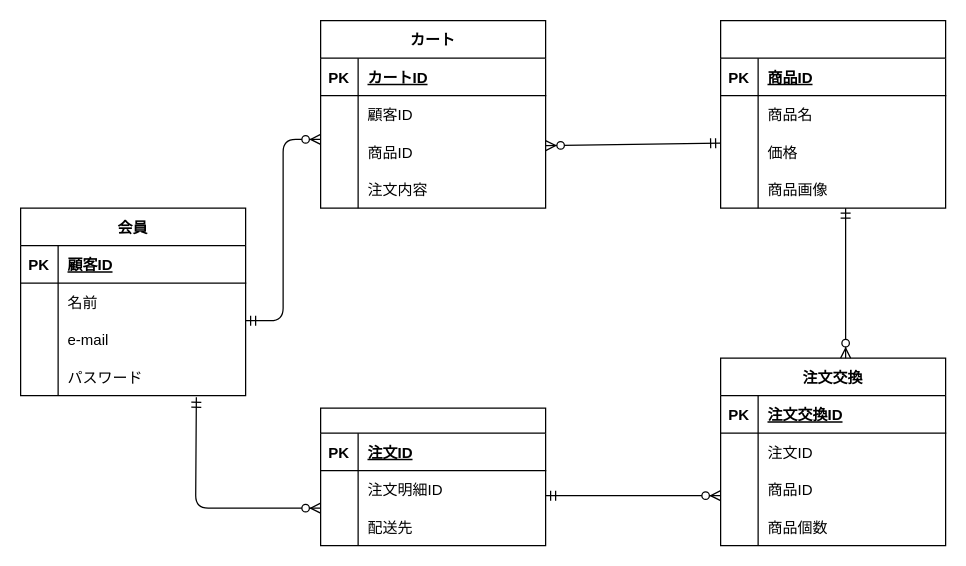
The diagram is 966 pixels wide and 566 high, and some of its shapes have lost their labels. The shapes that lost their labels are listed below. From the top down, each one's box as (x1, y1, x2, y2) in pixels, then its label:
(719, 19, 946, 208): 商品
(319, 407, 546, 546): 注文
